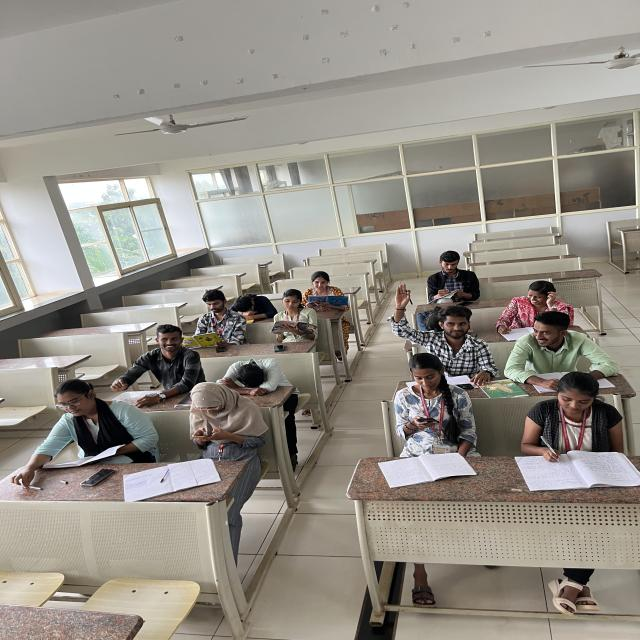Hand Rising: (387, 282, 497, 366)
Reading: (35, 382, 129, 468), (175, 292, 240, 346), (272, 290, 316, 337), (306, 269, 348, 313)
Sleeping: (221, 357, 295, 396), (232, 289, 278, 322)
Using Phone: (394, 354, 478, 444), (185, 380, 258, 450)
Writing: (522, 372, 626, 467), (494, 279, 577, 341), (426, 252, 479, 304)
